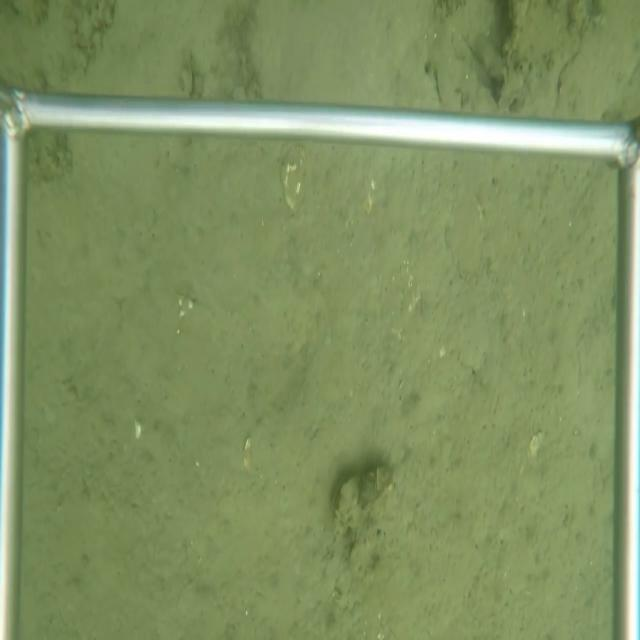Oyster-Closed: (330, 459, 396, 528)
